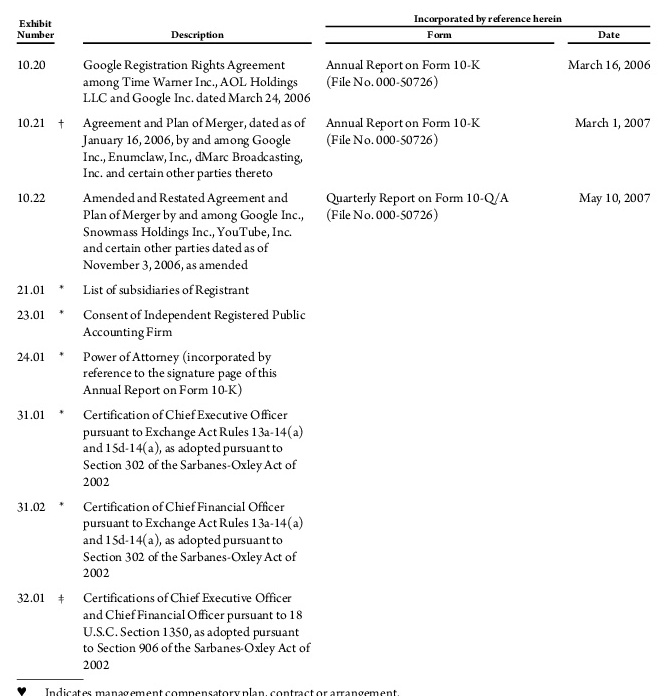table: (0, 0, 665, 696)
